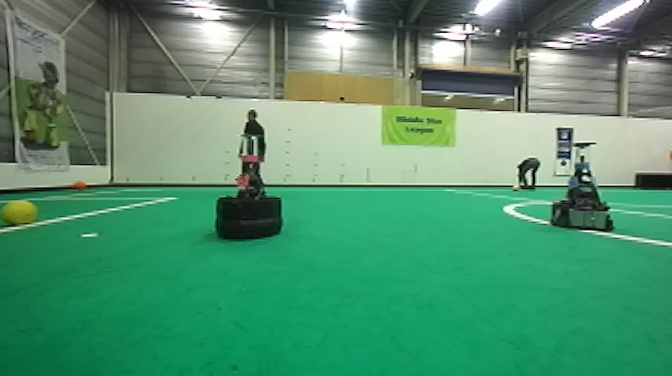ball: (1, 196, 42, 228), (73, 177, 87, 194), (510, 182, 521, 194)
human: (238, 108, 265, 191), (515, 153, 540, 191)
robot: (214, 131, 286, 243), (546, 141, 617, 236)
